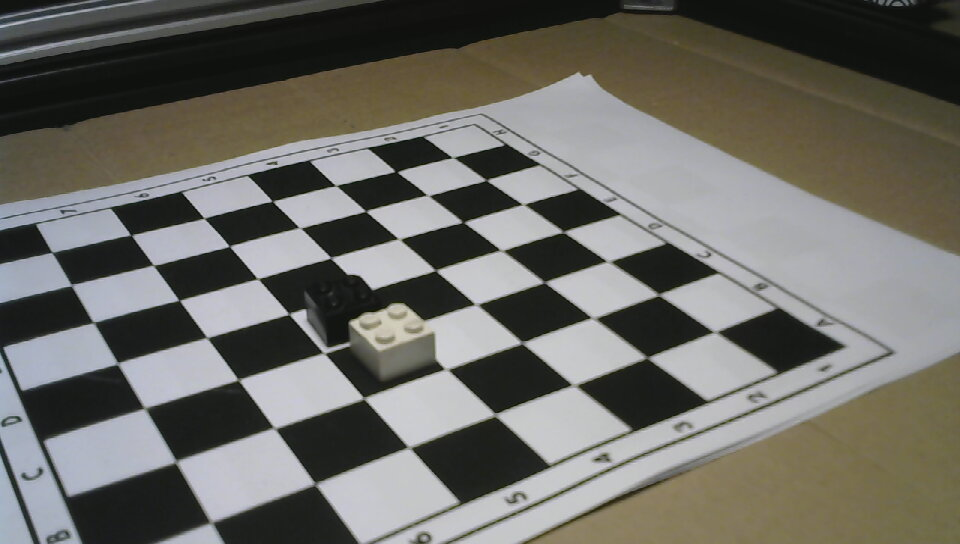bp: (298, 274, 347, 349)
